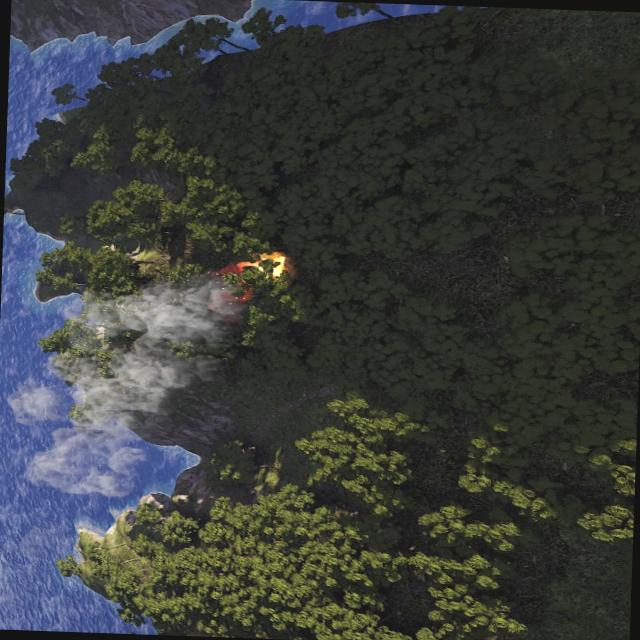fire: (240, 250, 290, 278)
smoke: (6, 257, 250, 498)
